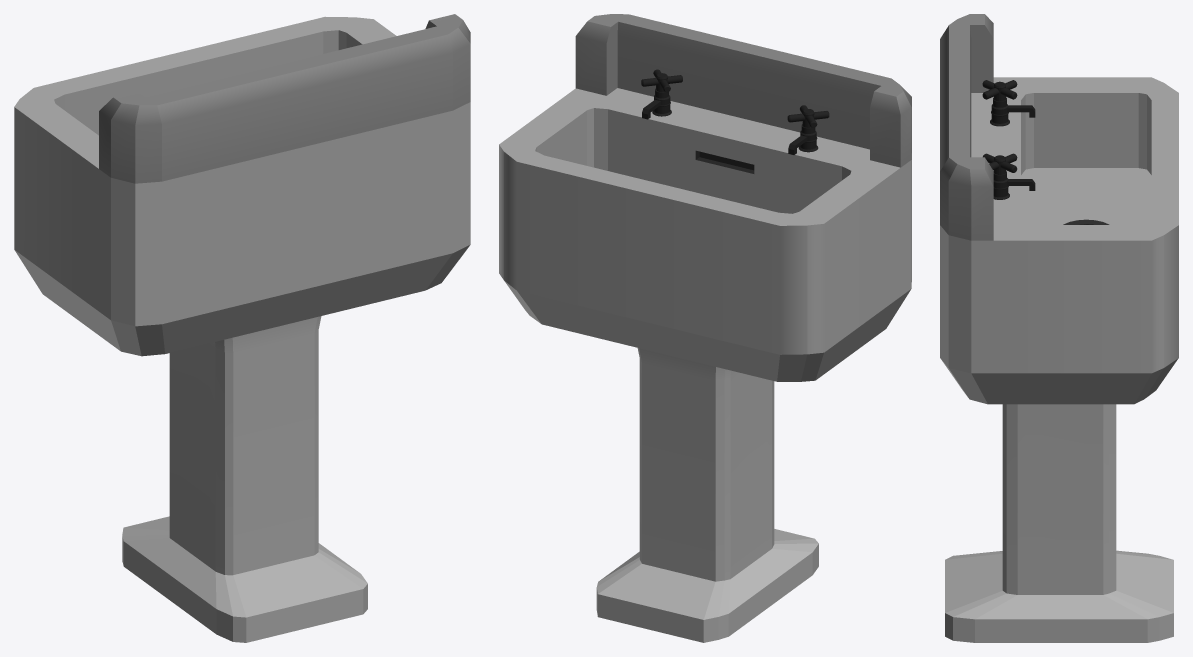
File: BathroomSinkModel.fbx
3 views of the same model, side by side, from view 1: azimuth 30°, elevation 25°; view 2: azimuth 150°, elevation 25°; view 3: azimuth 270°, elevation 25° (orthographic). The views are drawn at different scales.
Parts seen in each view (by area): view 1: BathroomSinkModel; view 2: BathroomSinkModel; view 3: BathroomSinkModel.
Boxes of the visible parts, x1,y1,x2,y2 form: BathroomSinkModel: (14,14,470,642); BathroomSinkModel: (499,14,911,642); BathroomSinkModel: (940,14,1178,642).
Size of the model in its own units: 85.23 by 126 by 52.64.
